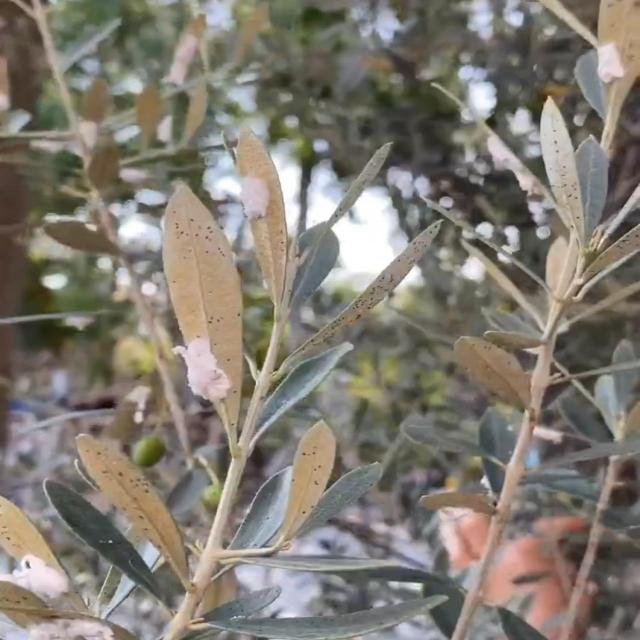Psyllid: (0, 548, 135, 640), (230, 128, 291, 308), (174, 338, 236, 414), (597, 42, 624, 84)
